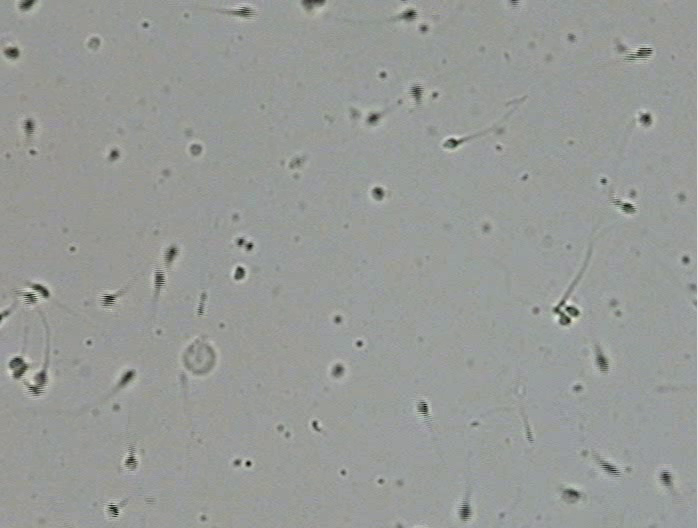Impurity: (182, 340, 216, 374), (87, 36, 100, 50)
S: (8, 357, 29, 379), (599, 460, 621, 477), (457, 502, 473, 522), (163, 245, 179, 264), (30, 283, 49, 298), (561, 488, 580, 503), (595, 354, 609, 373), (153, 269, 166, 289), (119, 370, 135, 386), (658, 469, 672, 487), (301, 1, 326, 11), (235, 6, 255, 18), (33, 371, 48, 387), (99, 293, 116, 307), (22, 118, 35, 135), (400, 8, 417, 21), (409, 85, 423, 100), (22, 292, 38, 305), (621, 202, 637, 215), (3, 47, 20, 59), (27, 384, 44, 396), (636, 47, 653, 59), (124, 456, 138, 470), (371, 186, 385, 200), (233, 266, 246, 281), (106, 503, 119, 518), (17, 1, 36, 11), (639, 113, 653, 126), (443, 138, 458, 149), (189, 144, 202, 156), (331, 364, 344, 376), (565, 306, 579, 317), (108, 149, 120, 161), (366, 112, 378, 124), (417, 401, 428, 414), (558, 314, 571, 325), (510, 1, 520, 8)
